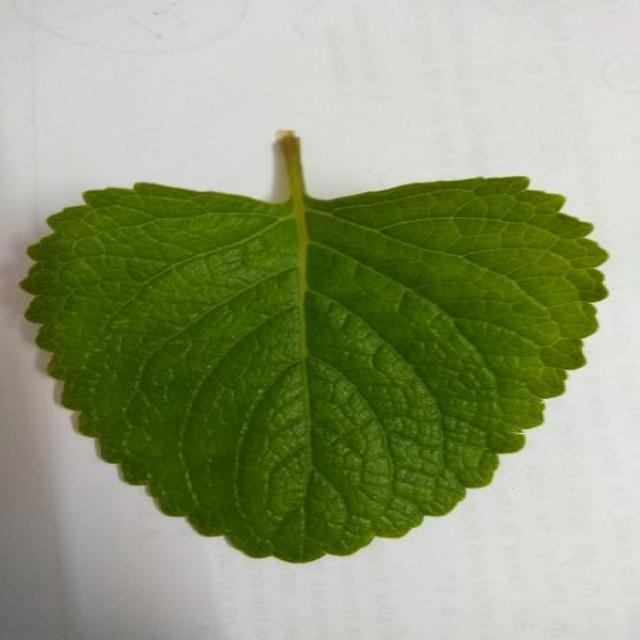doddpathre: (23, 131, 607, 562)
